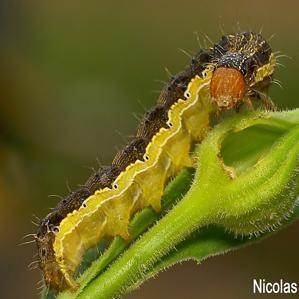Cotton bollworm: (16, 9, 286, 291)
